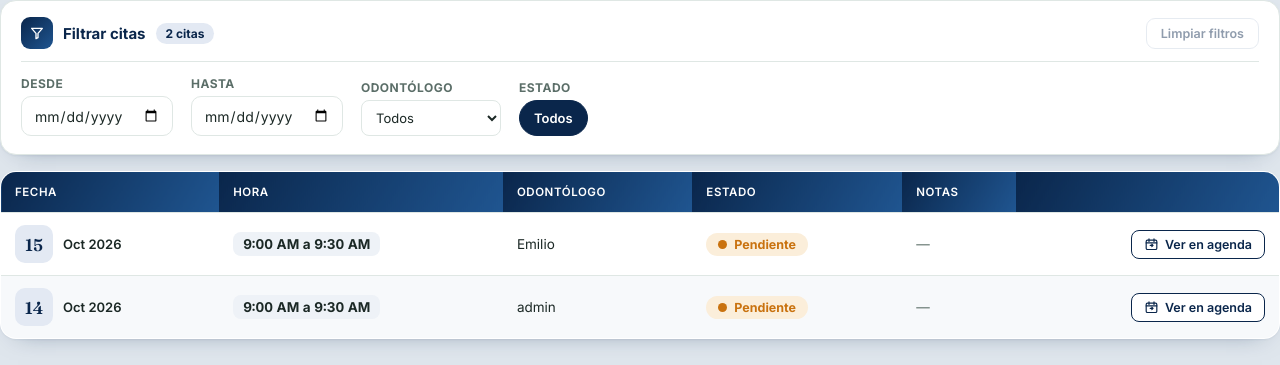
HistorialCitas - filtro por odontólogo › al elegir un odontólogo solo quedan sus citas
Expected: the table is shown, [0,171,1279,339]
Select "Emilio" in the dropdown labelled "Odontólogo" at [431, 118], box [361,100,501,136]
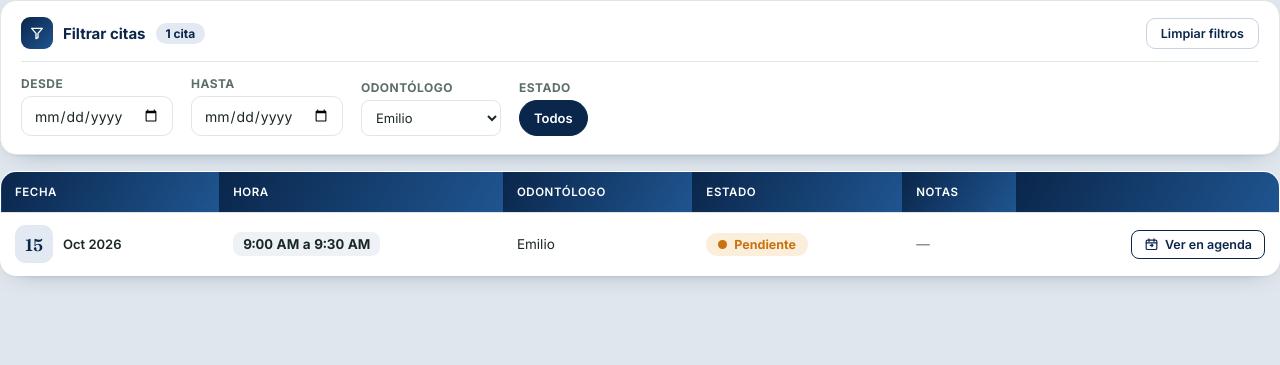
Expected: the text "Emilio" is shown, [503,212,692,276]
Result: the text "admin" is gone
Result: the text "1 cita" is shown at [156,22,205,44]
